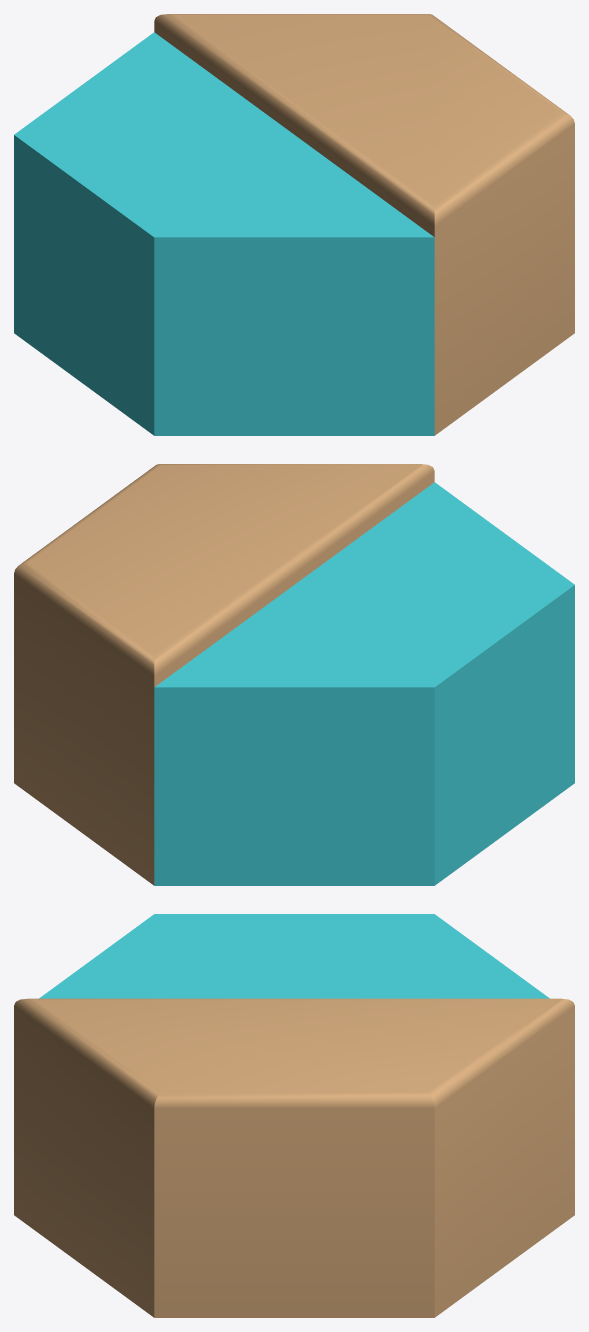
File: hex_sand_waterB.glb
3 renders of one model, top to bottom at view 1: azimuth 30°, elevation 25°; view 2: azimuth 150°, elevation 25°; view 3: azimuth 270°, elevation 25°, orthographic.
Parts seen in each view (by area): view 1: hex_sand_waterB; view 2: hex_sand_waterB; view 3: hex_sand_waterB.
Part boxes in pixels (x1,y1,x2,y2): hex_sand_waterB: (14,14,574,435); hex_sand_waterB: (14,464,574,885); hex_sand_waterB: (14,914,574,1317).
Bounding box in the file's own units: 2 × 1 × 2.31.
